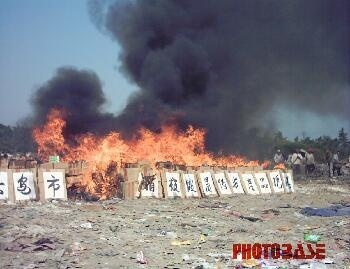fire: (31, 116, 236, 171), (66, 165, 123, 199)
